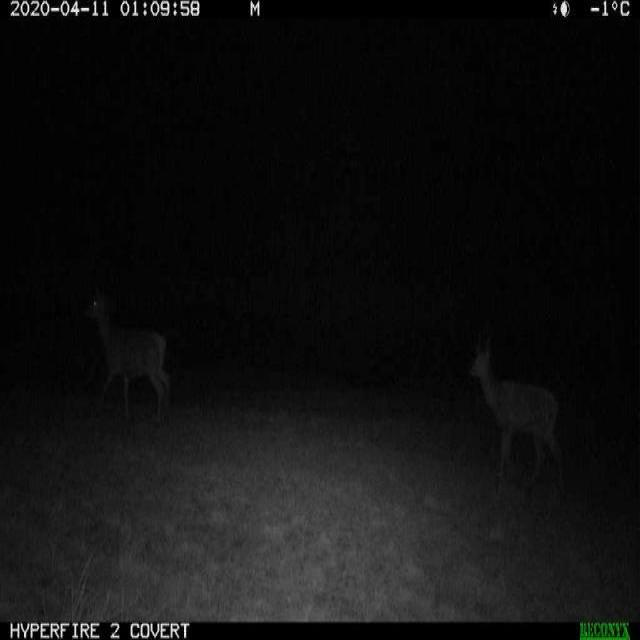deer: (456, 316, 567, 504), (71, 272, 179, 444)
